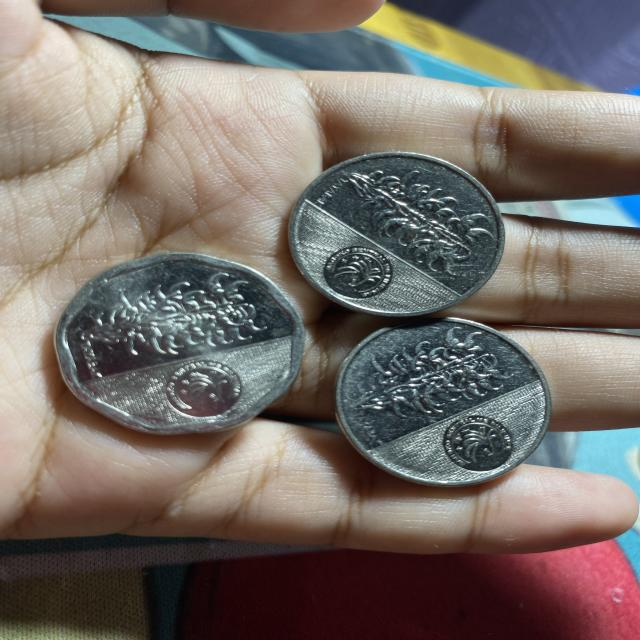5_New_Back: (342, 168, 484, 265), (93, 282, 260, 363), (354, 334, 499, 423)
